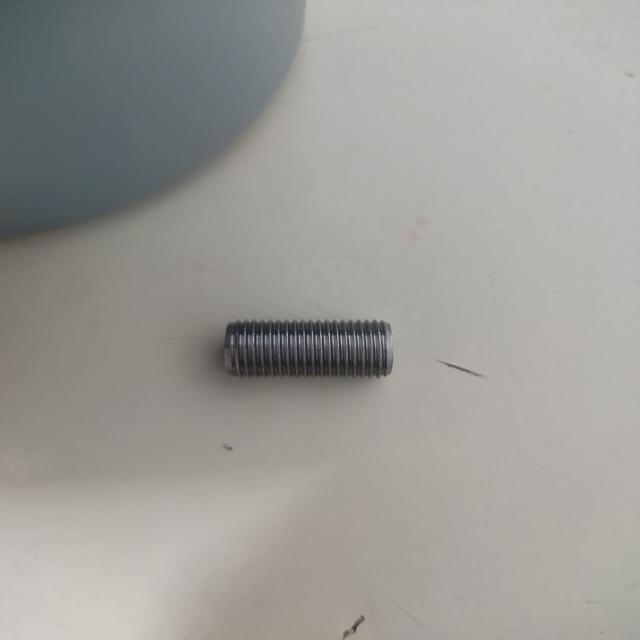Normal: (224, 318, 393, 380)
